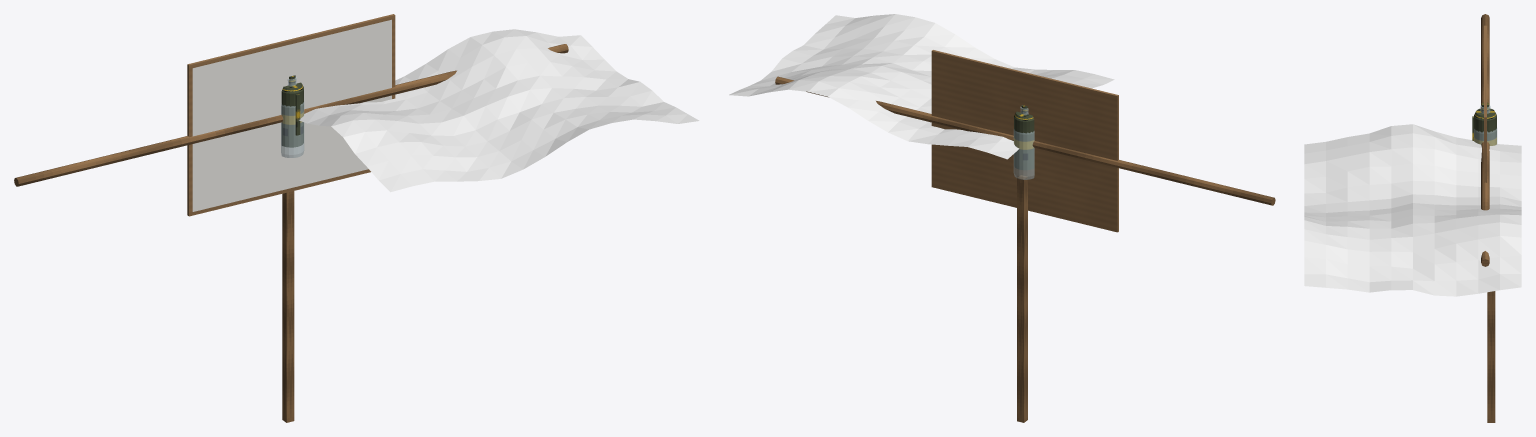
The model's file is props.glb.
3 renders of one model, left to right at view 1: azimuth 30°, elevation 25°; view 2: azimuth 150°, elevation 25°; view 3: azimuth 270°, elevation 25°, orthographic. The views are drawn at different scales.
Visible parts, largest first — view 1: flag-cloth, placard-face, flag-pole, placard, placard-pole, canister, bottle; view 2: placard, flag-cloth, flag-pole, placard-pole, canister, bottle; view 3: flag-cloth, placard-pole, flag-pole, canister, placard, bottle.
Part boxes in pixels (x1,y1,x2,y2): flag-cloth: [299, 29, 699, 192]; placard-face: [192, 19, 391, 211]; flag-pole: [14, 44, 568, 186]; placard: [187, 14, 395, 216]; placard-pole: [282, 191, 294, 422]; canister: [281, 75, 303, 147]; bottle: [281, 77, 304, 157]; placard: [931, 50, 1118, 232]; flag-cloth: [729, 14, 1114, 159]; flag-pole: [775, 76, 1275, 205]; placard-pole: [1017, 175, 1027, 422]; canister: [1014, 105, 1034, 170]; bottle: [1013, 107, 1034, 179]; flag-cloth: [1304, 124, 1521, 296]; placard-pole: [1487, 291, 1495, 422]; flag-pole: [1481, 14, 1489, 266]; canister: [1472, 102, 1496, 145]; placard: [1484, 25, 1486, 182]; bottle: [1474, 105, 1497, 145].
Bounding box in the file's own units: 1.7 × 1.06 × 0.6.
Materials: 8 (5 with a texture image).
